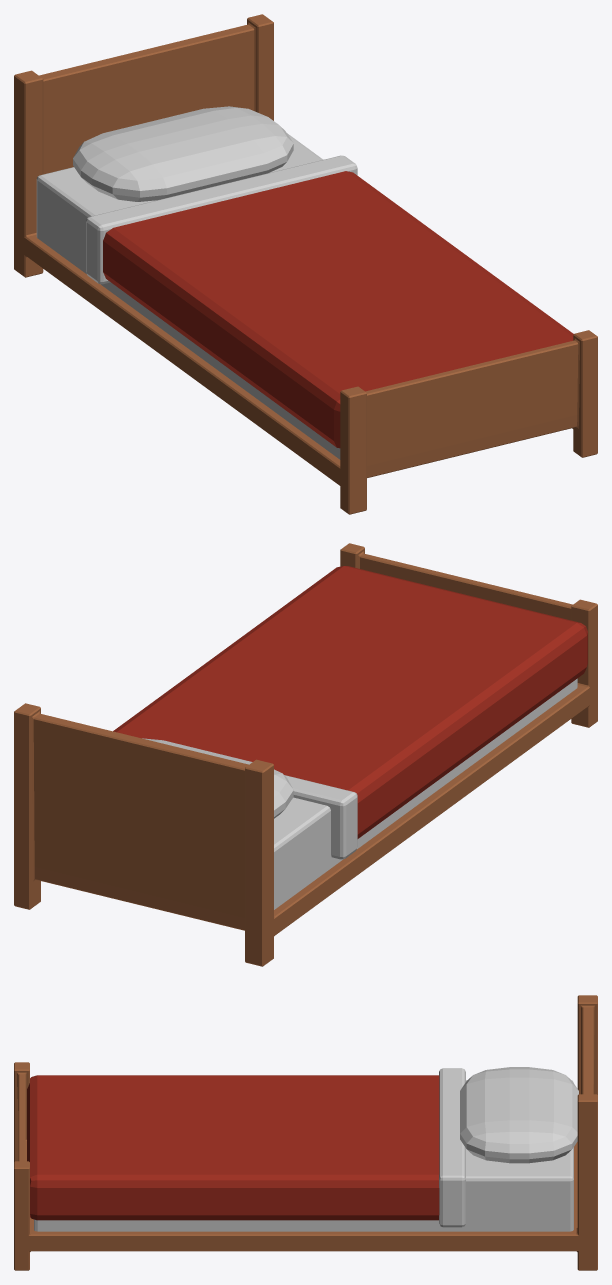
File: Bed Single.glb
3 renders of one model, top to bottom at view 1: azimuth 30°, elevation 25°; view 2: azimuth 150°, elevation 25°; view 3: azimuth 270°, elevation 25°, orthographic. The views are drawn at different scales.
Parts seen in each view (by area): view 1: Bed single; view 2: Bed single; view 3: Bed single.
Part boxes in pixels (bbox=[...]): Bed single: bbox=[14, 14, 597, 514]; Bed single: bbox=[14, 543, 597, 966]; Bed single: bbox=[14, 995, 597, 1270].
Bounding box in the file's own units: 496 × 357 × 1110.
